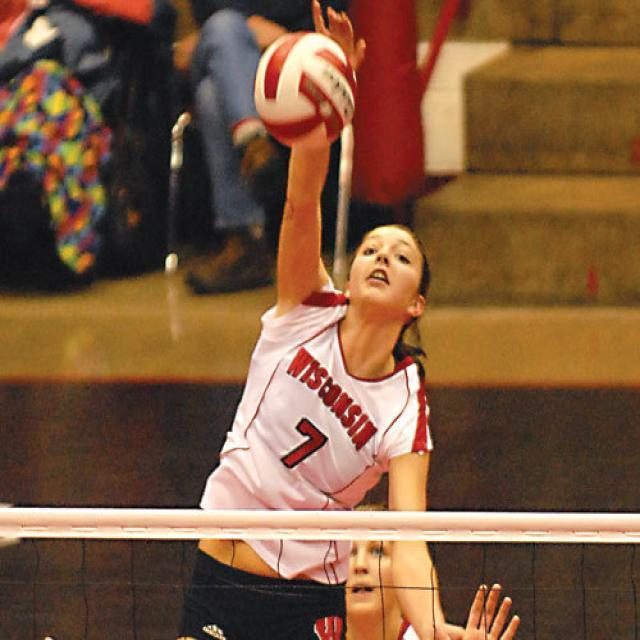volleyball: (254, 32, 358, 150)
